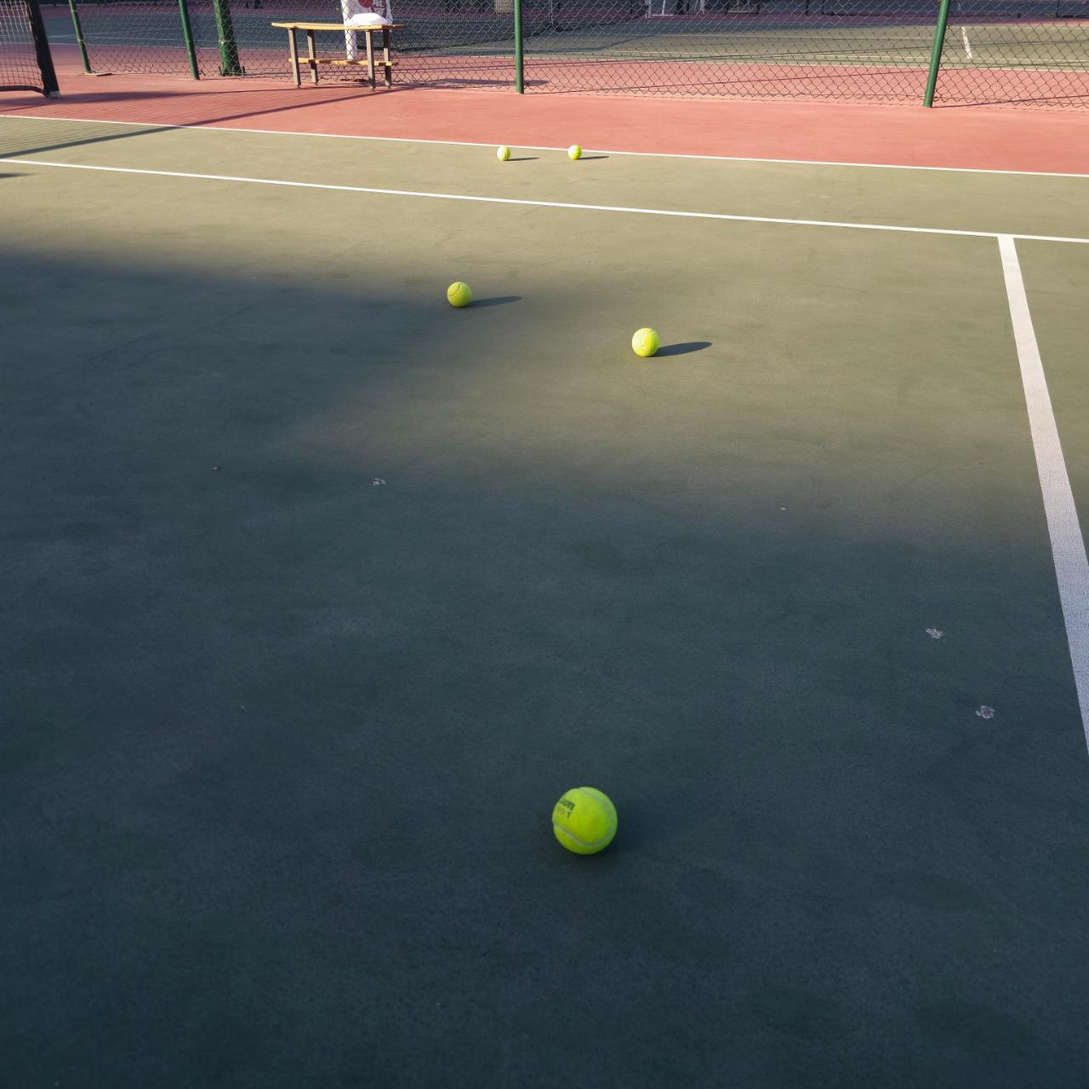tennis-ball: (550, 784, 618, 855), (630, 324, 659, 357), (445, 278, 471, 307), (568, 145, 582, 160), (497, 145, 510, 161)
